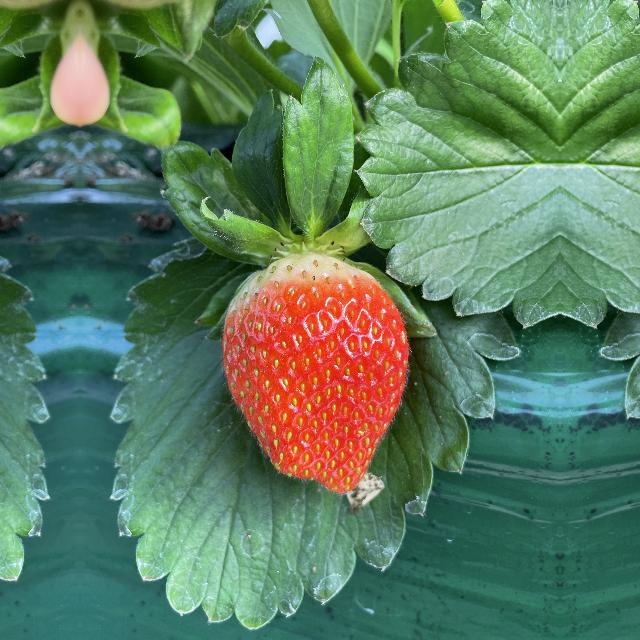Health_100: (215, 245, 418, 500)
